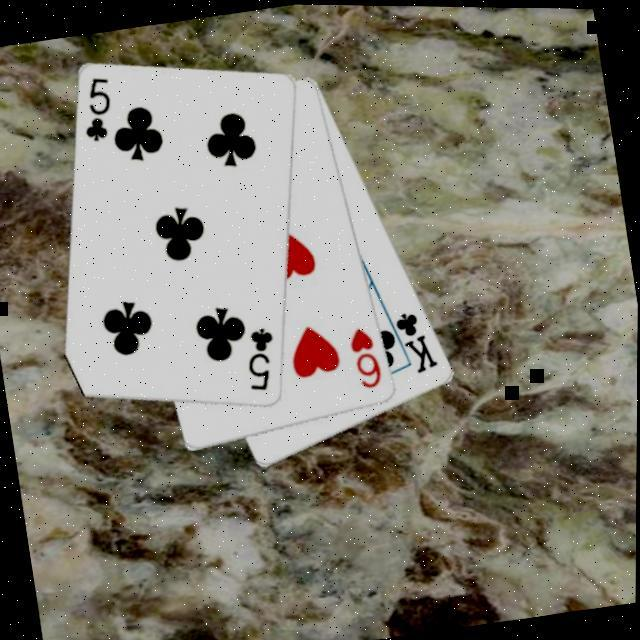5C: (74, 71, 121, 147), (240, 321, 286, 396)
6H: (346, 320, 388, 392)
KC: (383, 301, 444, 378)
